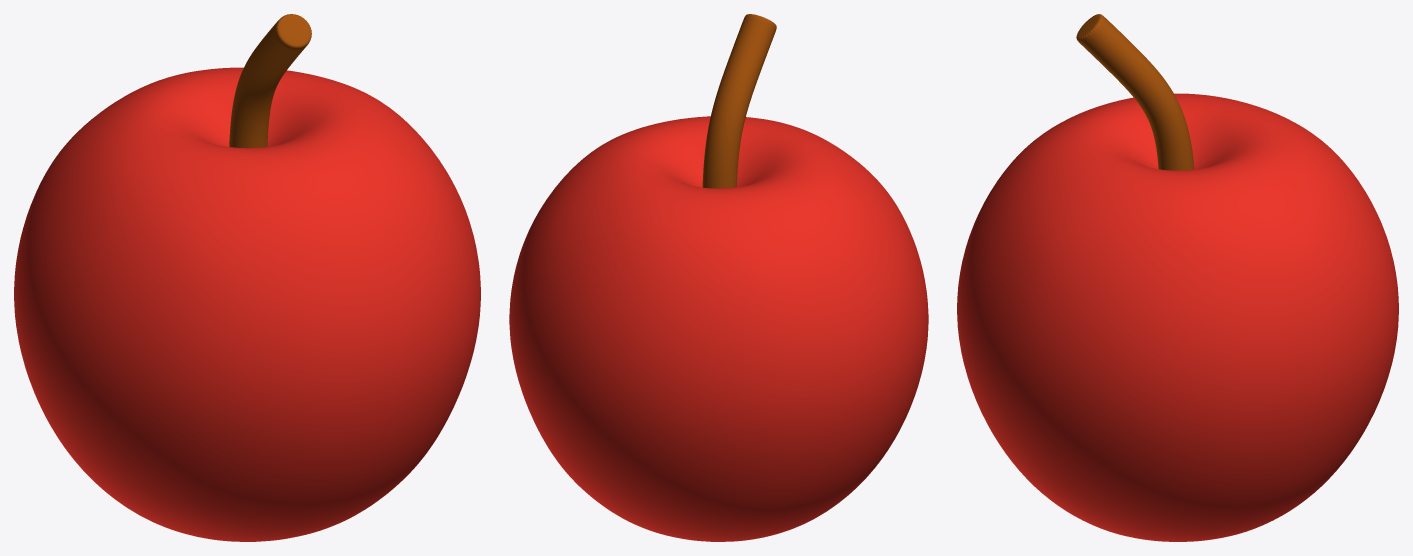
File: apple.fbx
3 renders of one model, left to right at view 1: azimuth 30°, elevation 25°; view 2: azimuth 150°, elevation 25°; view 3: azimuth 270°, elevation 25°, orthographic. The views are drawn at different scales.
Visible parts, largest first — view 1: Roundcube, Cylinder; view 2: Roundcube, Cylinder; view 3: Roundcube, Cylinder.
Part boxes in pixels (<box>): Roundcube: <box>14,67,480,541</box>; Cylinder: <box>229,14,311,148</box>; Roundcube: <box>509,116,928,541</box>; Cylinder: <box>702,14,776,188</box>; Roundcube: <box>957,93,1398,541</box>; Cylinder: <box>1076,14,1194,170</box>.
Size of the model in its own units: 190 by 233 by 190.
